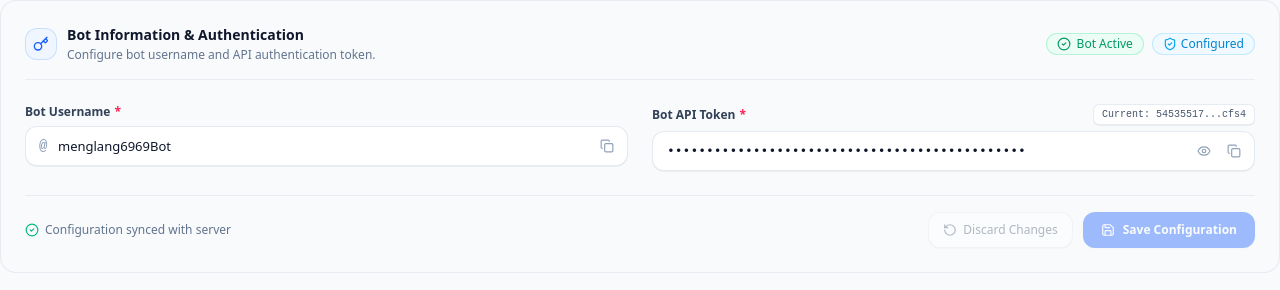
Test: TelegramBotConfigForm.vue › toggles password visibility for bot token
The image size is (1280, 290).
Click the button titled "Show token".
click(1204, 151)  # box [1191,138,1217,164]
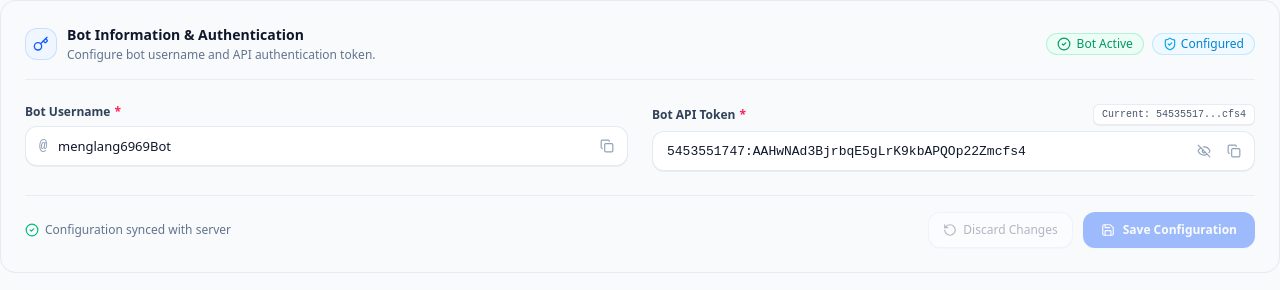
Check: the field with placeholder "5453551747:AAHwNAd3BjrbqE5gLrK9kbAPQOp22Zmcfs4" below "Bot API Token" shows its text, box [652,131,1255,171]
